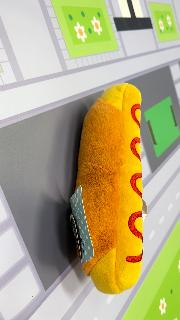hotdog: (70, 82, 144, 296)
